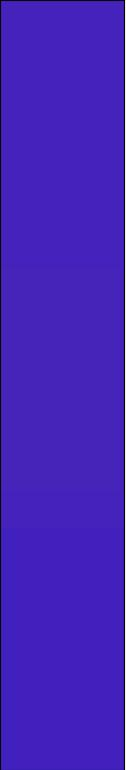safe: (9, 9, 114, 754)
